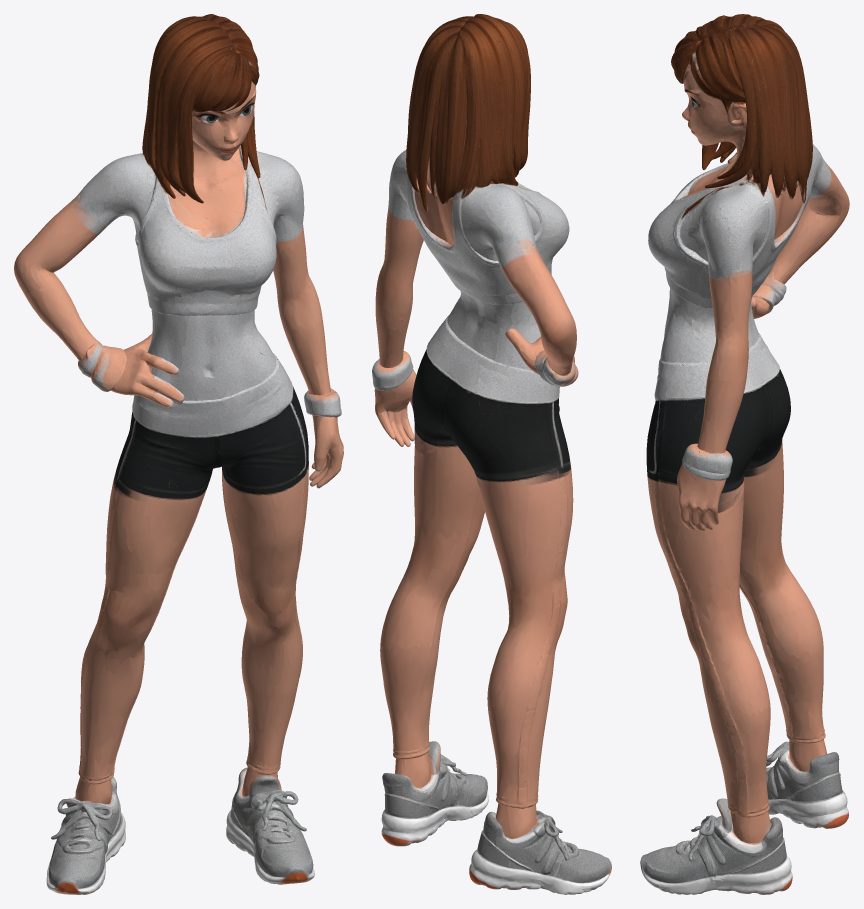
File: athlete_f.glb
The picture shows the model from 3 angles, left to right: view 1: azimuth 30°, elevation 25°; view 2: azimuth 150°, elevation 25°; view 3: azimuth 270°, elevation 25°; orthographic projection. The views are drawn at different scales.
Size of the model in its own units: 0.6135 by 1.9 by 0.4278.
1 material, 1 textured.
